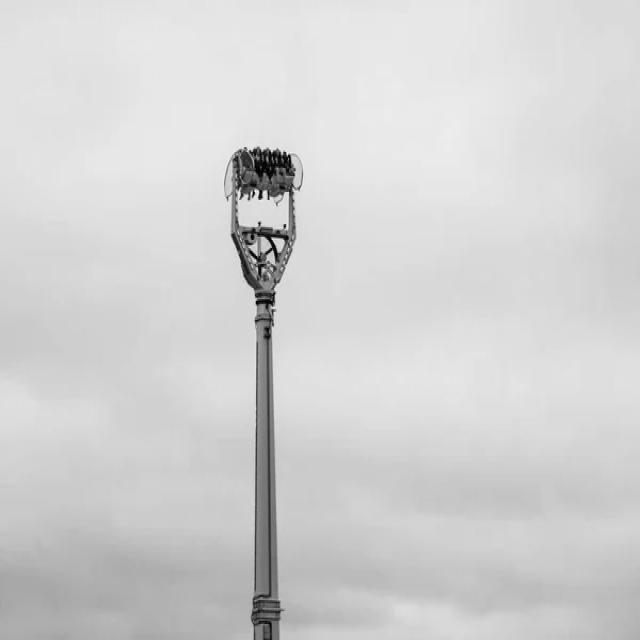Pole: (224, 147, 304, 640)
